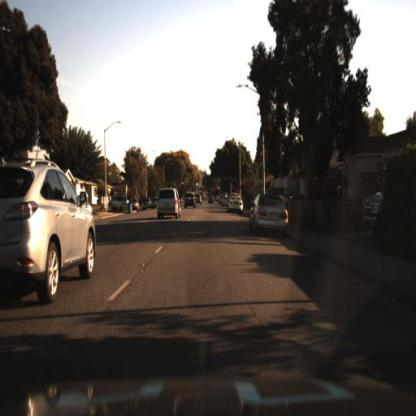car: (2, 154, 98, 302), (248, 192, 291, 234), (157, 188, 184, 221), (224, 194, 245, 217), (106, 196, 130, 210), (183, 192, 198, 211), (128, 198, 142, 215), (128, 198, 141, 213), (140, 195, 152, 211), (207, 197, 216, 206)
